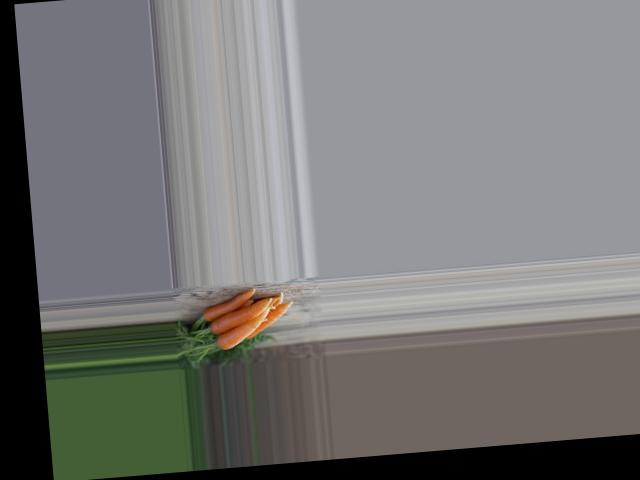carrot: (199, 287, 264, 323)
